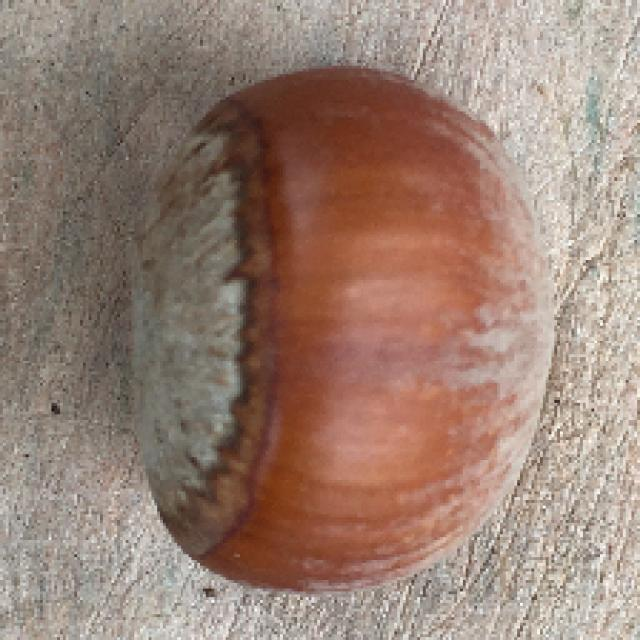QualityHazelnut: (124, 70, 563, 597)
